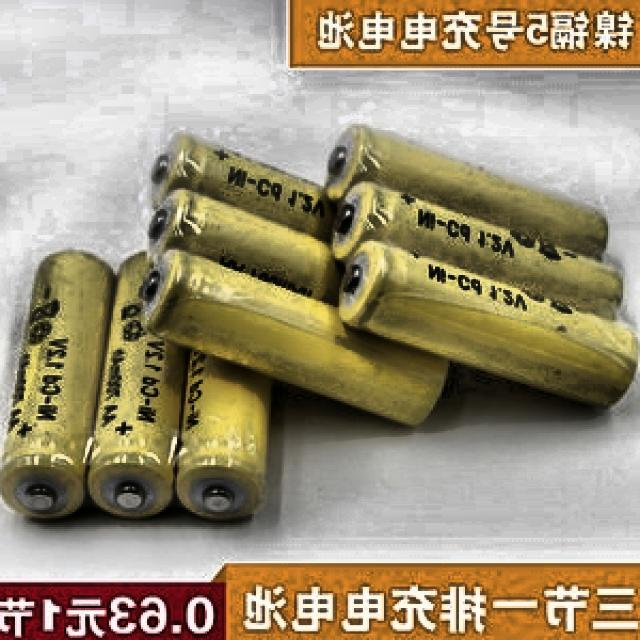Non-Valuable Waste - Batteries: (326, 127, 637, 405), (144, 139, 446, 425), (0, 252, 114, 518), (87, 252, 187, 518), (176, 351, 271, 519)
